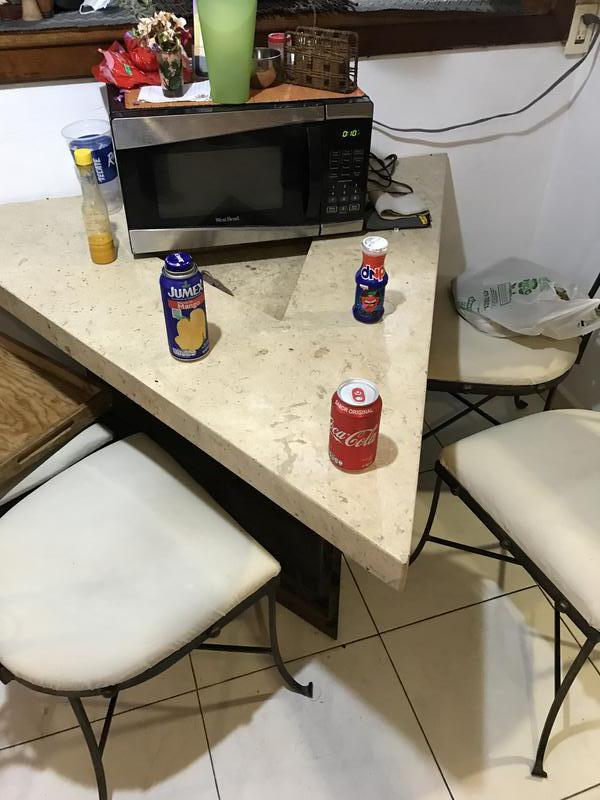coca_cola: (324, 379, 382, 473)
danup: (352, 238, 390, 323)
jugo_jumex: (156, 252, 212, 363)
